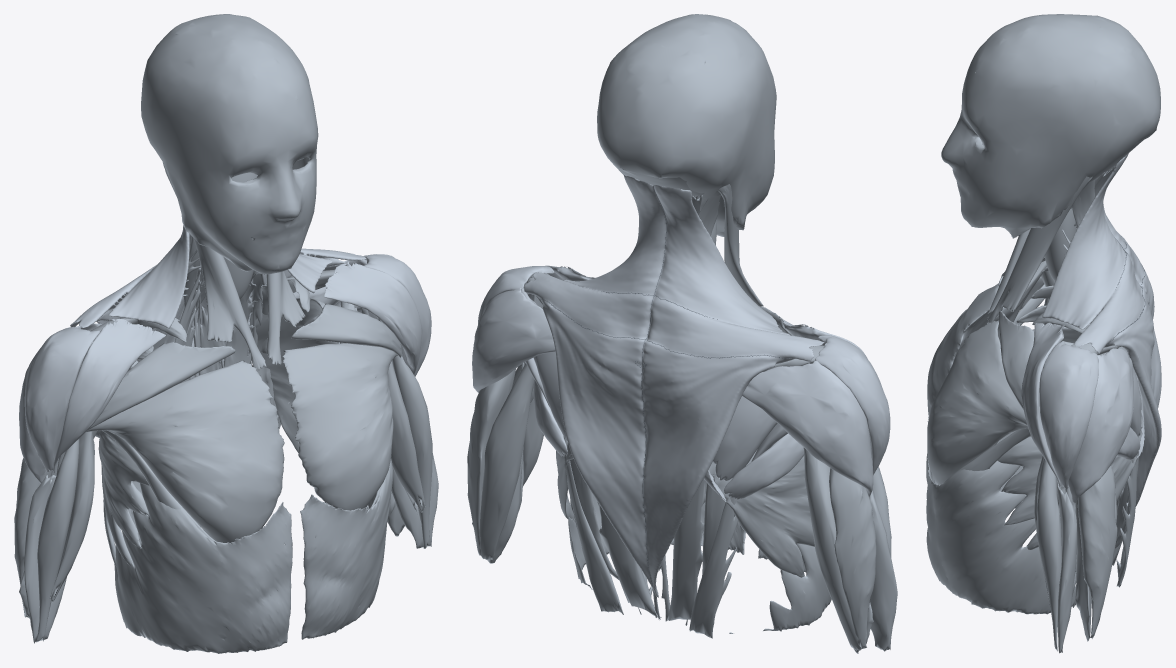
File: anatomy-preview-muscles.glb
3 views of the same model, side by side, from view 1: azimuth 30°, elevation 25°; view 2: azimuth 150°, elevation 25°; view 3: azimuth 270°, elevation 25° (orthographic). The views are drawn at different scales.
Visible parts, largest first — view 1: Skin, Right external oblique, Sternocostal part of right pectoralis major, Sternocostal part of left pectoralis major, Left external oblique, Clavicular part of right deltoid, Acromial part of right deltoid, Trapezius · upper, Clavicular part of left deltoid, Right serratus anterior, Clavicular part of right pectoralis major, Long head of right biceps brachii (+17 smaller); view 2: Trapezius · lower, Skin, Trapezius · upper, Trapezius · middle, Spinal part of right deltoid, Right serratus anterior, Spinal part of left deltoid, Long head of left triceps brachii, Lateral head of right triceps brachii, Acromial part of right deltoid, Long head of right triceps brachii, Right longissimus thoracis (+19 smaller); view 3: Skin, Left external oblique, Sternocostal part of left pectoralis major, Trapezius · upper, Acromial part of left deltoid, Spinal part of left deltoid, Trapezius · lower, Lateral head of left triceps brachii, Left serratus anterior, Trapezius · middle, Long head of left biceps brachii, Sternocostal part of right pectoralis major (+15 smaller).
Boxes of the visible parts, x1,y1,x2,y2 form: Skin: (141, 14, 318, 274); Right external oblique: (114, 483, 292, 653); Sternocostal part of right pectoralis major: (86, 360, 284, 542); Sternocostal part of left pectoralis major: (282, 343, 397, 510); Left external oblique: (300, 458, 393, 639); Clavicular part of right deltoid: (53, 318, 165, 473); Acromial part of right deltoid: (24, 327, 100, 472); Trapezius · upper: (108, 225, 332, 328); Clavicular part of left deltoid: (324, 261, 421, 374); Right serratus anterior: (98, 318, 187, 566); Clavicular part of right pectoralis major: (88, 342, 235, 429); Long head of right biceps brachii: (36, 439, 79, 642); Trapezius · lower: (540, 299, 795, 596); Skin: (597, 14, 776, 236); Trapezius · upper: (562, 174, 789, 335); Trapezius · middle: (524, 272, 823, 366); Spinal part of right deltoid: (742, 361, 873, 496); Right serratus anterior: (709, 449, 814, 577); Spinal part of left deltoid: (472, 287, 555, 392); Long head of left triceps brachii: (479, 363, 534, 559); Lateral head of right triceps brachii: (829, 468, 876, 648); Acromial part of right deltoid: (815, 335, 890, 474); Long head of right triceps brachii: (803, 447, 863, 650); Right longissimus thoracis: (665, 479, 706, 625); Skin: (941, 14, 1160, 238); Left external oblique: (926, 458, 1076, 614); Sternocostal part of left pectoralis major: (927, 321, 1027, 484); Trapezius · upper: (1042, 153, 1128, 329); Acromial part of left deltoid: (1039, 341, 1098, 489); Spinal part of left deltoid: (1068, 348, 1133, 503); Trapezius · lower: (1104, 235, 1161, 506); Lateral head of left triceps brachii: (1077, 466, 1117, 637); Left serratus anterior: (997, 313, 1142, 549); Trapezius · middle: (1074, 231, 1148, 354); Long head of left biceps brachii: (1036, 459, 1061, 651); Sternocostal part of right pectoralis major: (927, 276, 1043, 417).
Bounding box in the file's own units: 0.4667 × 0.6133 × 0.2413.
